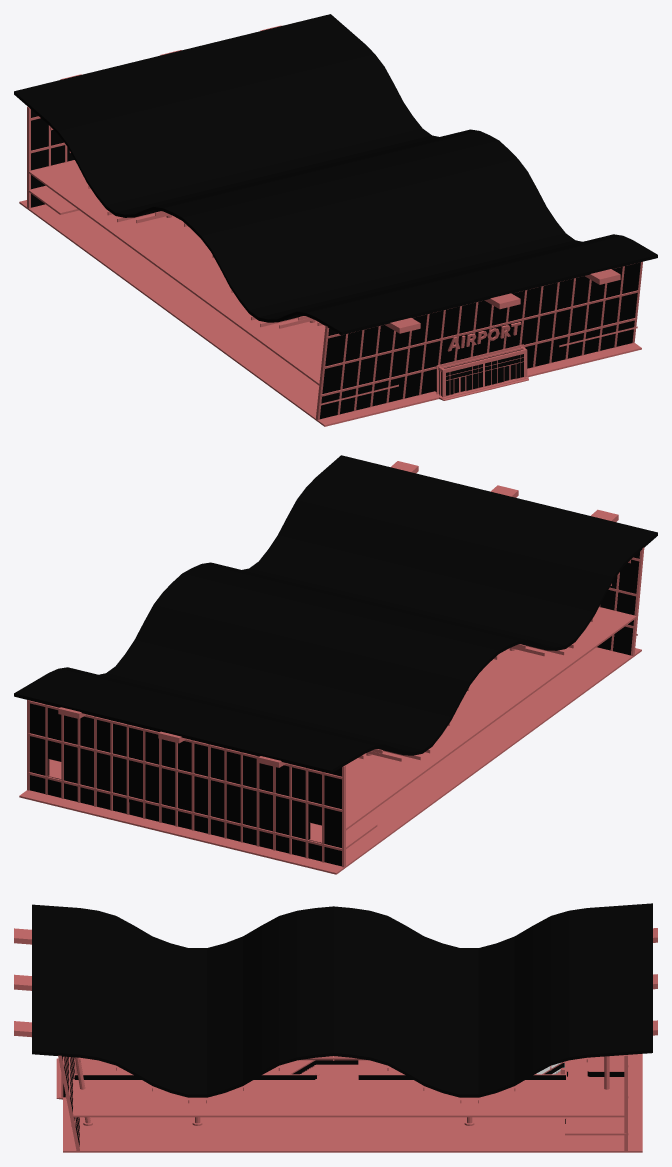
Rendered from SM_airport.fbx.
3 renders of one model, top to bottom at view 1: azimuth 30°, elevation 25°; view 2: azimuth 150°, elevation 25°; view 3: azimuth 270°, elevation 25°, orthographic. The views are drawn at different scales.
Parts seen in each view (by area): view 1: Symmetry_11; view 2: Symmetry_11; view 3: Symmetry_11.
Part boxes in pixels (left/top/right/bottom): Symmetry_11: left=14, top=14, right=657, bottom=426; Symmetry_11: left=14, top=455, right=657, bottom=874; Symmetry_11: left=14, top=903, right=657, bottom=1152.
Size of the model in its own units: 54746 by 17939 by 101476.
